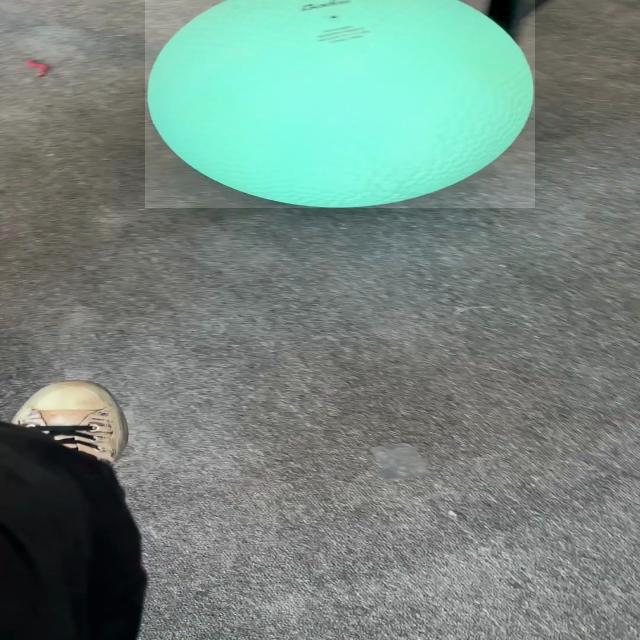Algae: (145, 0, 535, 208)
